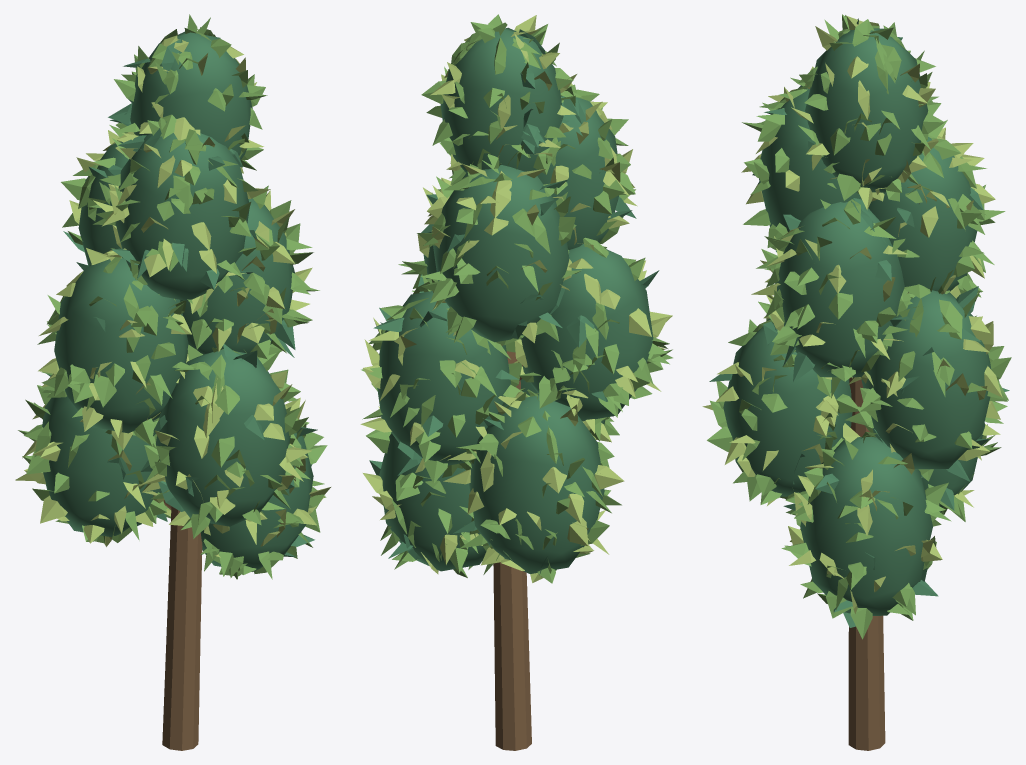
File: Tree_Poplar_A.fbx
The picture shows the model from 3 angles, left to right: view 1: azimuth 30°, elevation 25°; view 2: azimuth 150°, elevation 25°; view 3: azimuth 270°, elevation 25°; orthographic projection.
Visible parts, largest first — view 1: Tree_Poplar_A; view 2: Tree_Poplar_A; view 3: Tree_Poplar_A.
Part boxes in pixels (<box>): Tree_Poplar_A: <box>15,14,330,750</box>; Tree_Poplar_A: <box>360,14,672,750</box>; Tree_Poplar_A: <box>702,14,1011,750</box>.
Size of the model in its own units: 247 by 598 by 231.
